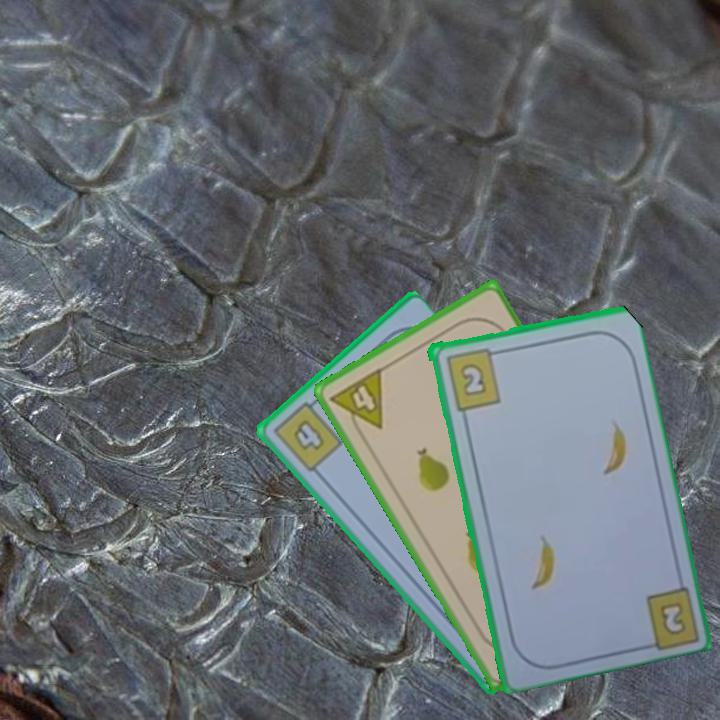2b: (442, 344, 503, 413), (659, 602, 685, 635)
4b: (269, 393, 345, 475)
4p: (326, 364, 386, 442)
